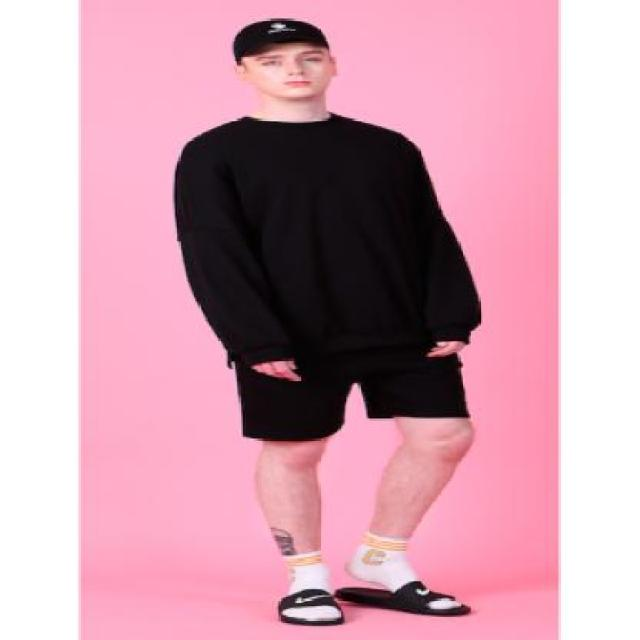hat: (229, 14, 331, 61)
